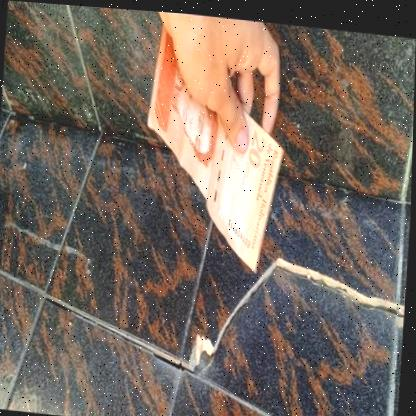twenty-front-vef: (140, 19, 292, 270)
